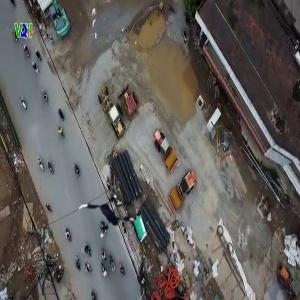drone: (73, 186, 141, 254)
